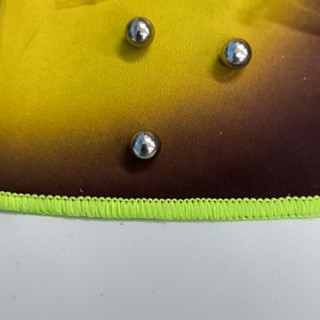ironball: (217, 31, 261, 80), (122, 11, 158, 55), (130, 125, 156, 160)
